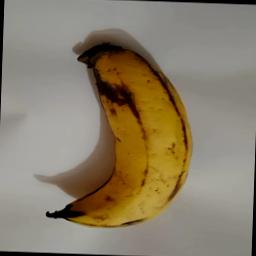Banana Unripe: (34, 35, 199, 234)
